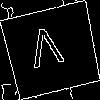V: (26, 25, 67, 78)
